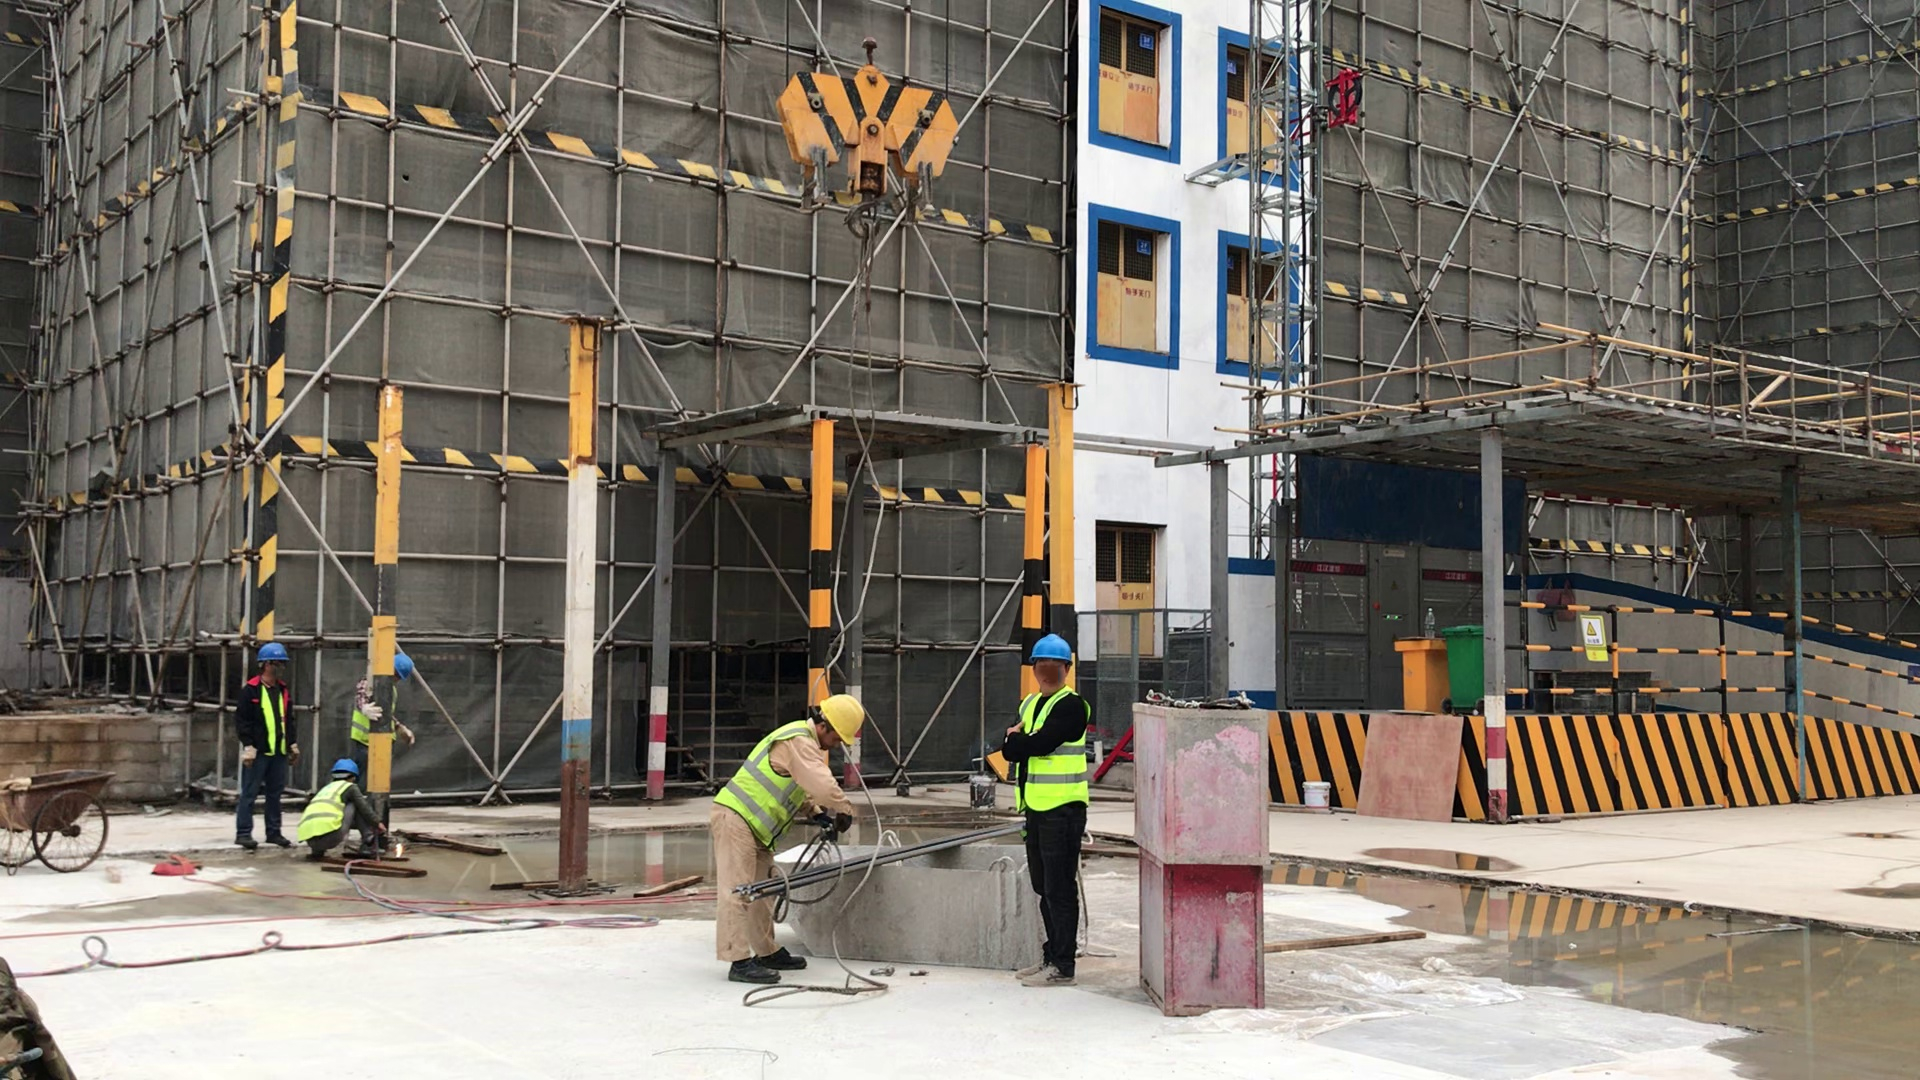board: (1360, 701, 1469, 833)
brick: (1, 689, 227, 818)
handcart: (4, 769, 116, 876)
helmet: (821, 692, 865, 751), (1028, 630, 1073, 662), (255, 640, 293, 667), (328, 756, 360, 778), (389, 651, 411, 680)
hook: (757, 59, 965, 231)
person: (706, 689, 861, 989), (1005, 632, 1094, 994), (233, 640, 301, 854), (296, 755, 393, 871), (349, 649, 414, 768)
vest: (710, 719, 824, 854), (1013, 677, 1093, 816), (295, 777, 358, 850)
